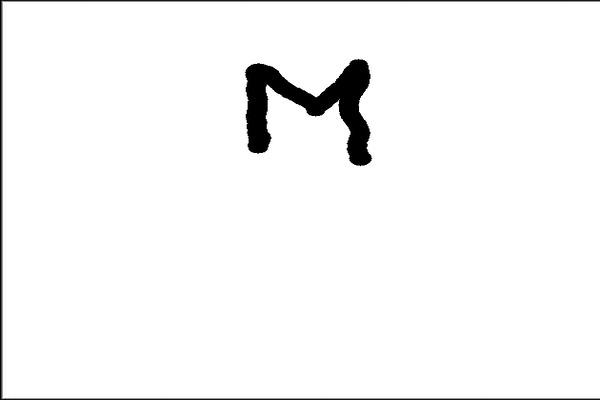M: (240, 56, 379, 166)
